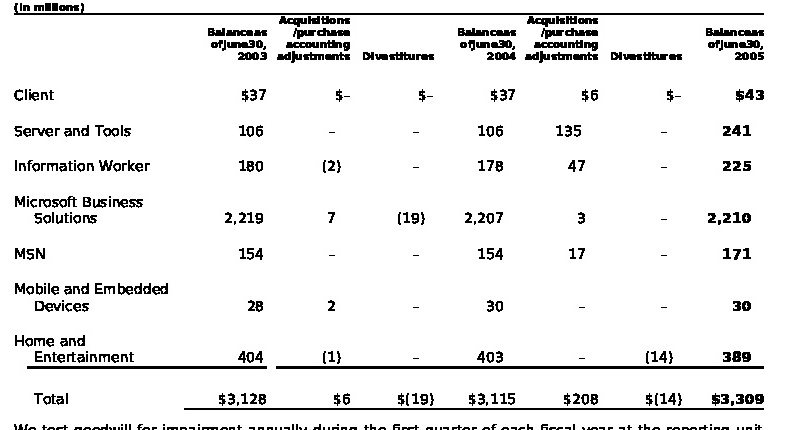table: (0, 0, 785, 430)
